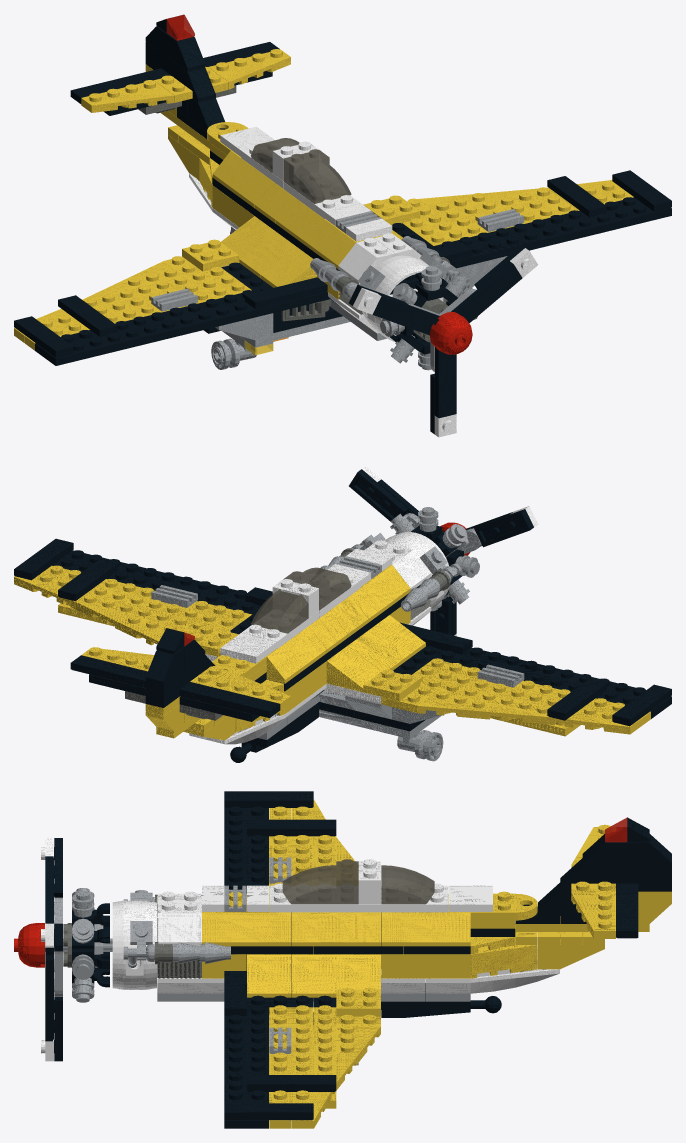
Rendered from spitfire.obj.
The picture shows the model from 3 angles, top to bottom: view 1: azimuth 30°, elevation 25°; view 2: azimuth 150°, elevation 25°; view 3: azimuth 270°, elevation 25°; orthographic projection. The views are drawn at different scales.
Visible parts, largest first — view 1: 2303_2303, 2852_2852, 4286_4286, 1165_1165, 3299_3299, 5089_5089, 5652_5652, 2517_2517, 5236_5236, 5434_5434, 5623_5623, 3348_3348 (+25 smaller); view 2: 2303_2303, 1329_1329, 2852_2852, 1165_1165, 3299_3299, 2517_2517, 1968_1968, 2232_2232, 3231_3231, 3348_3348, 3709_3709, 4016_4016 (+45 smaller); view 3: 1236_1236, 3511_3511, 2852_2852, 844_844, 4286_4286, 3416_3416, 1329_1329, 3443_3443, 1085_1085, 2303_2303, 3736_3736, 4225_4225 (+53 smaller).
Part boxes in pixels (box(x1,y1,x2,y2)): 2303_2303: box(35, 290, 273, 365); 2852_2852: box(434, 197, 671, 268); 4286_4286: box(293, 159, 351, 203); 1165_1165: box(213, 151, 272, 204); 3299_3299: box(296, 212, 355, 265); 5089_5089: box(82, 82, 174, 112); 5652_5652: box(372, 296, 438, 335); 2517_2517: box(413, 197, 578, 245); 5236_5236: box(208, 51, 290, 89); 5434_5434: box(456, 264, 522, 323); 5623_5623: box(438, 350, 456, 418); 3348_3348: box(239, 231, 295, 273); 2303_2303: box(434, 647, 671, 718); 1329_1329: box(251, 589, 308, 633); 2852_2852: box(52, 550, 261, 614); 1165_1165: box(267, 626, 326, 679); 3299_3299: box(351, 565, 410, 618); 2517_2517: box(87, 581, 251, 629); 1968_1968: box(413, 660, 562, 707); 2232_2232: box(382, 686, 545, 716); 3231_3231: box(369, 615, 425, 657); 3348_3348: box(348, 630, 404, 671); 3709_3709: box(327, 646, 381, 688); 4016_4016: box(145, 663, 194, 707); 1236_1236: box(381, 912, 470, 942); 3511_3511: box(202, 912, 291, 942); 2852_2852: box(224, 1007, 268, 1128); 844_844: box(381, 954, 470, 978); 4286_4286: box(282, 865, 336, 904); 3416_3416: box(291, 954, 336, 993); 1329_1329: box(381, 865, 434, 904); 3443_3443: box(247, 954, 291, 993); 1085_1085: box(470, 936, 537, 978); 2303_2303: box(224, 807, 268, 893); 3736_3736: box(336, 954, 380, 989); 4225_4225: box(291, 912, 336, 942).
Bounding box in the file's own units: 680 × 231 × 588.
